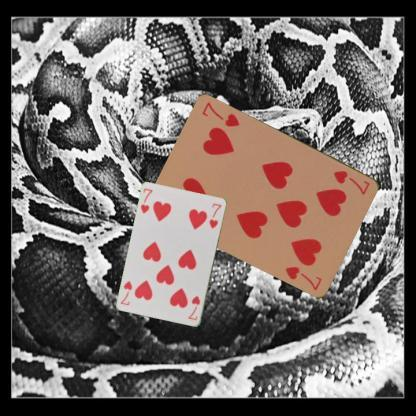7h: (332, 168, 372, 198), (138, 186, 154, 215), (186, 294, 202, 322)
